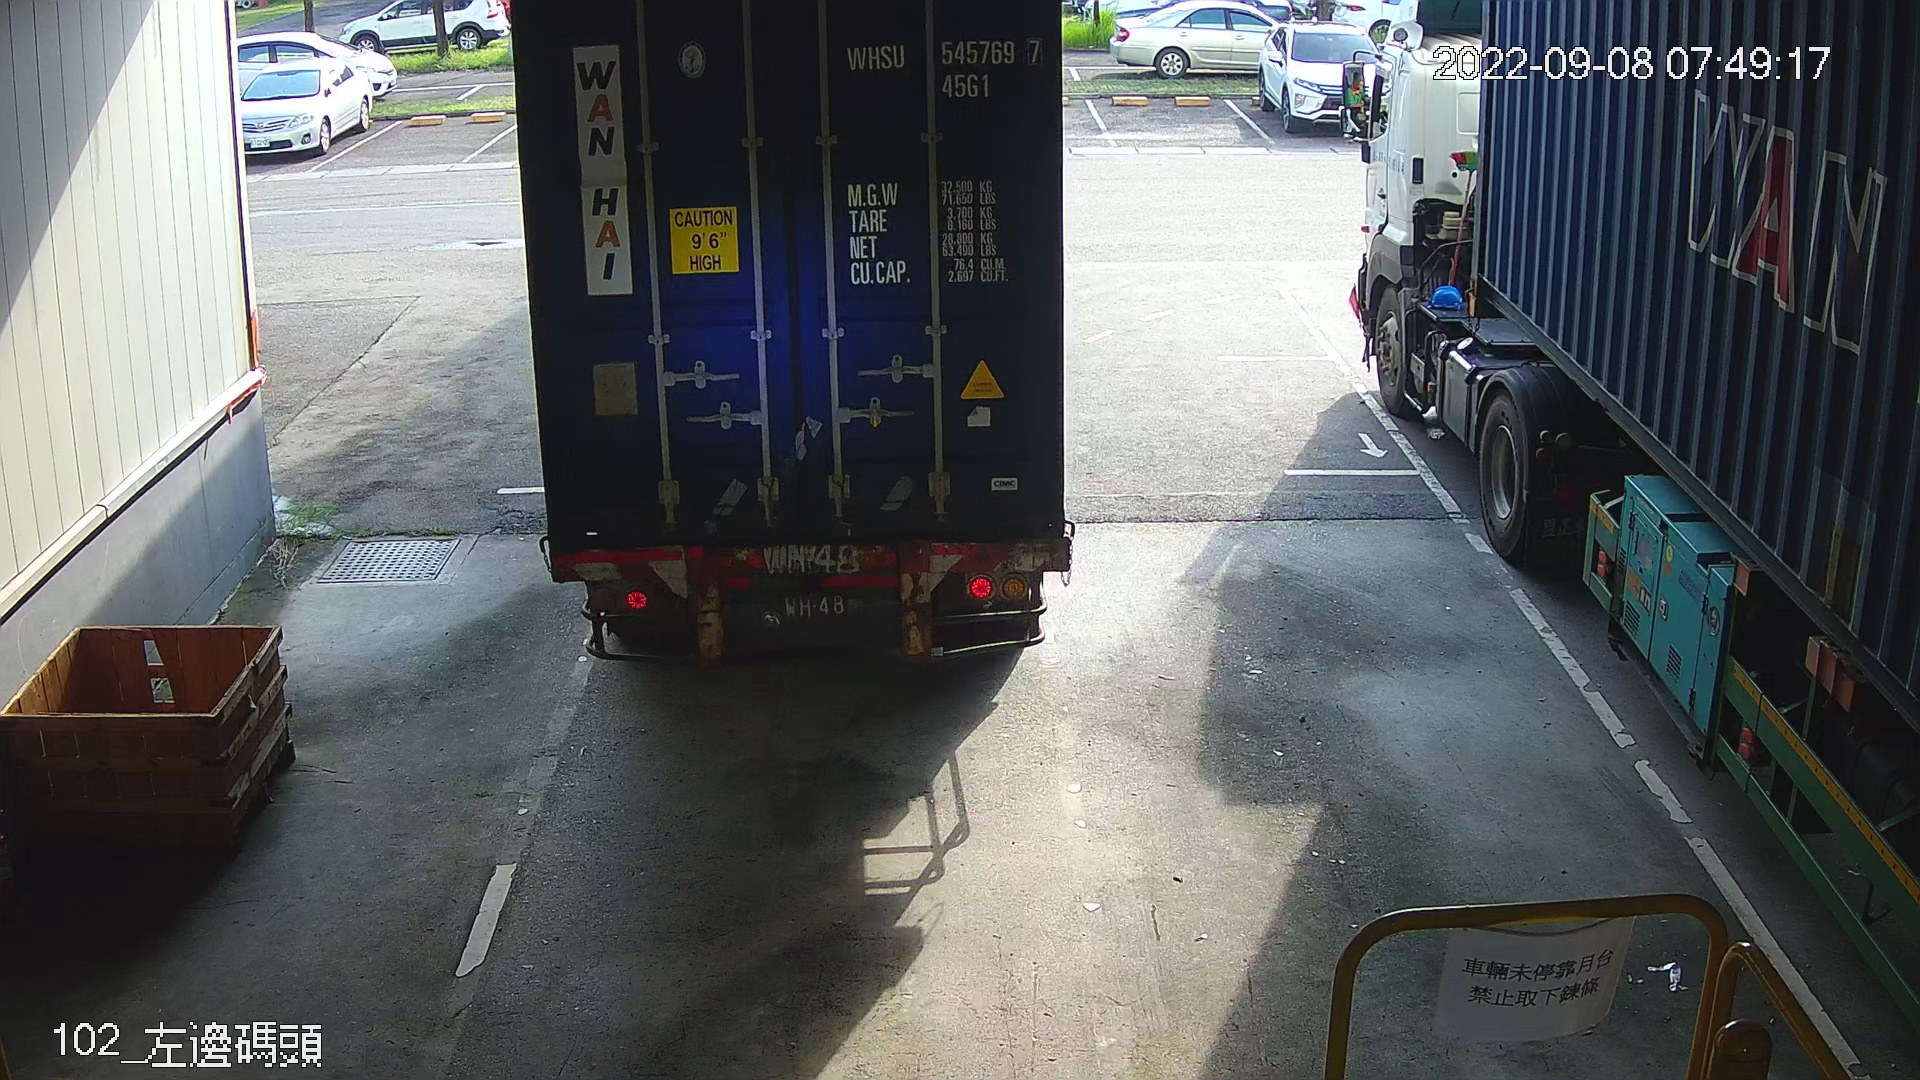container: (837, 29, 1051, 107)
